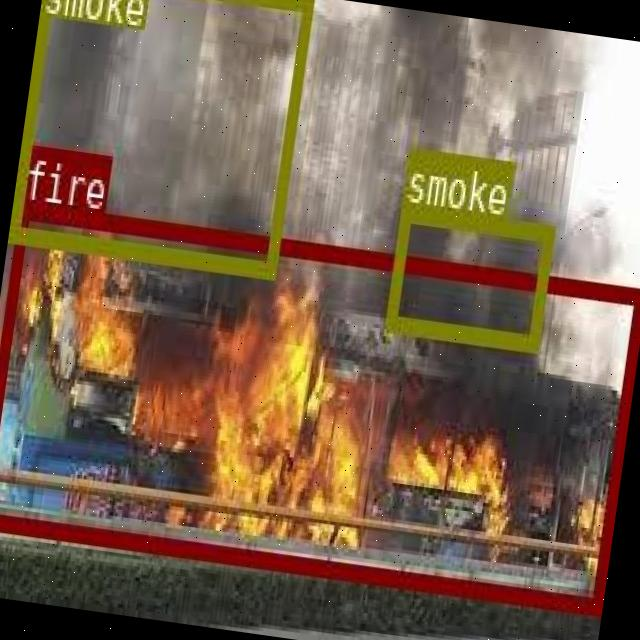fire: (0, 198, 640, 609)
smoke: (9, 0, 313, 273), (384, 205, 554, 348)
